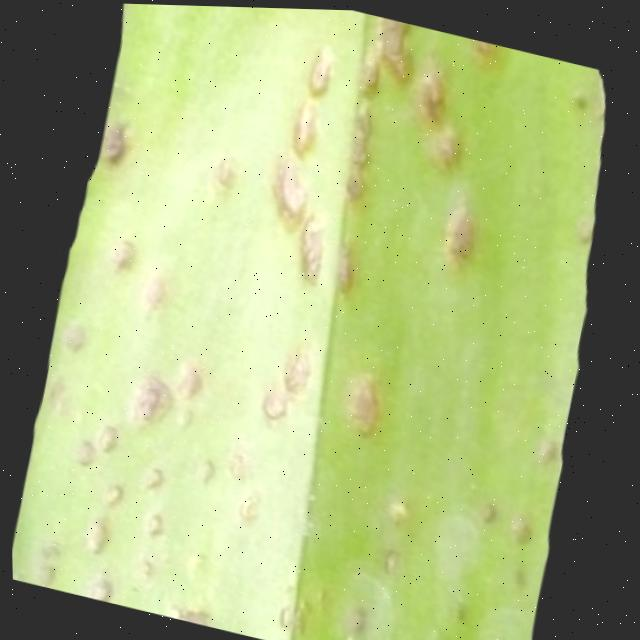mite: (325, 563, 396, 640), (206, 149, 240, 193), (337, 598, 370, 640)
spots: (9, 3, 640, 640)
